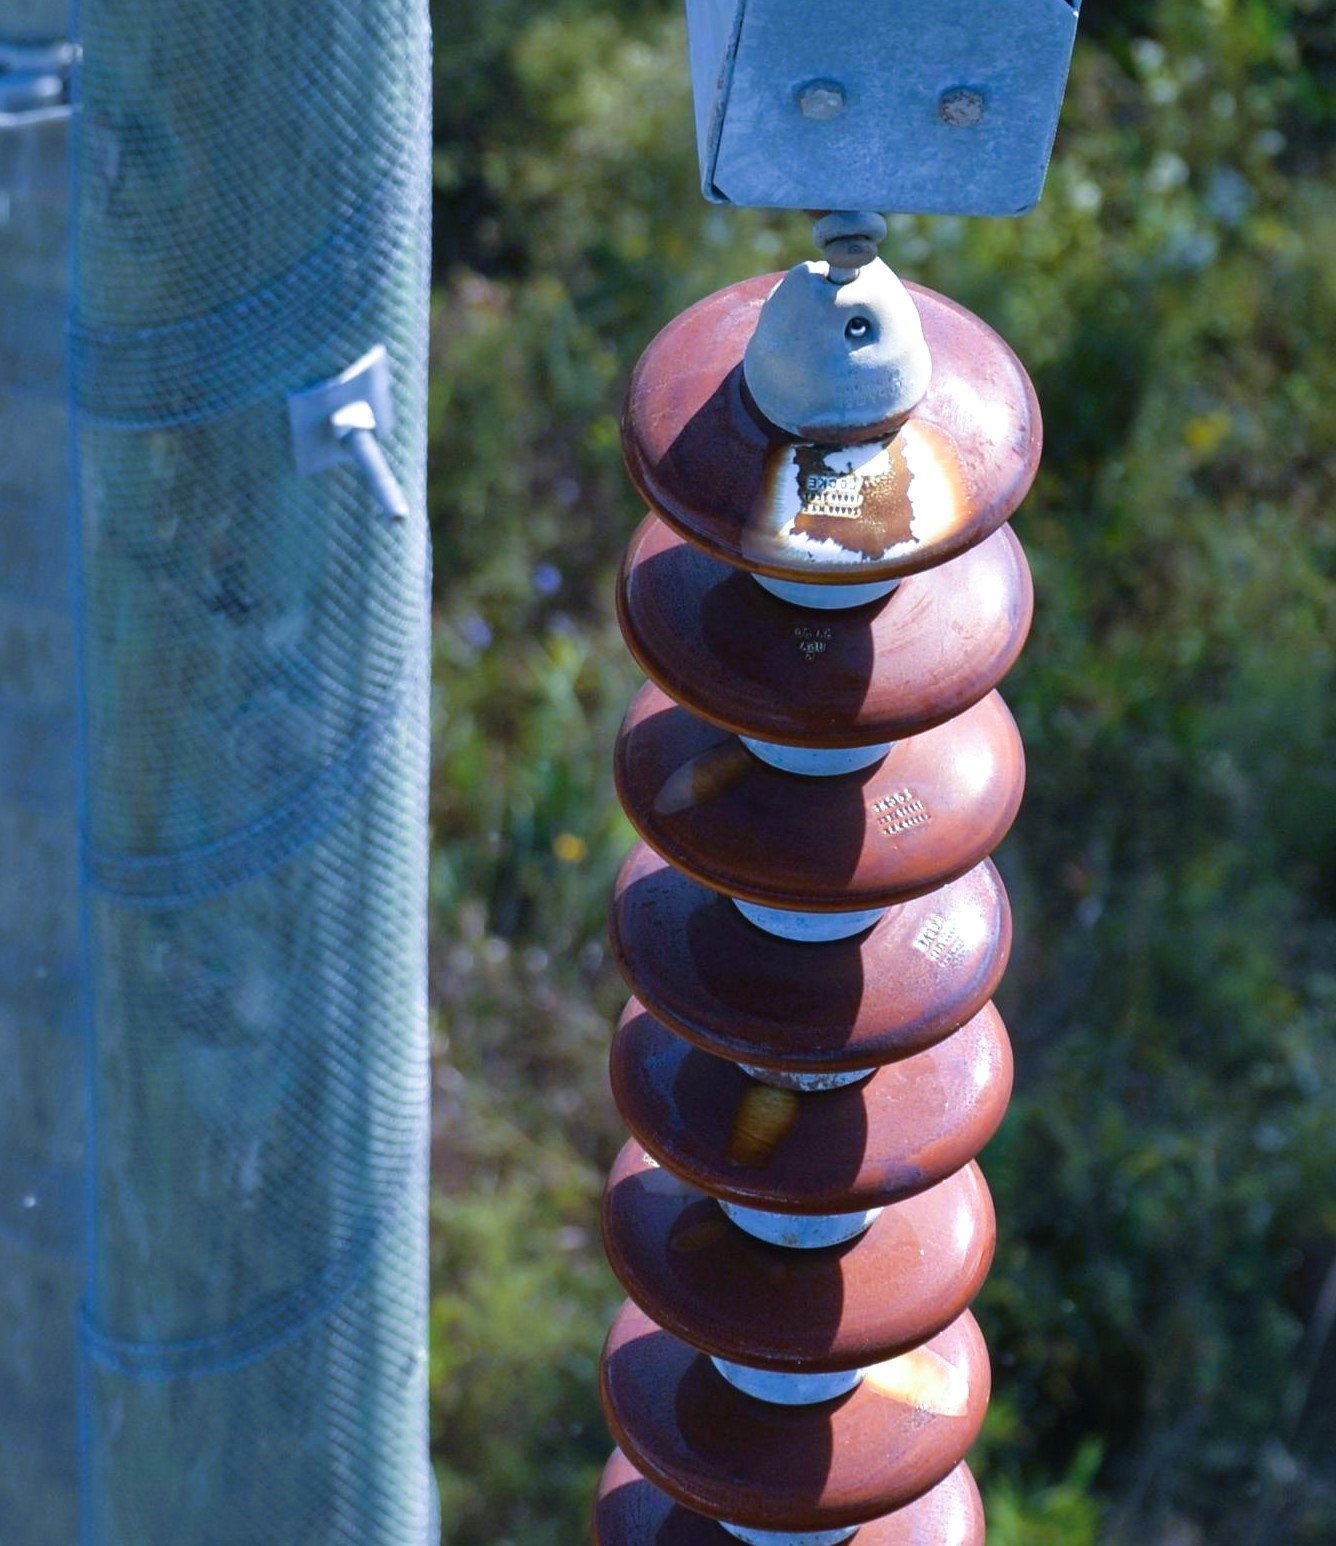Insulator flashover: (609, 258, 1052, 586)
